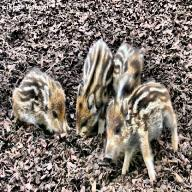boar: (102, 88, 192, 179), (7, 62, 74, 144), (68, 57, 104, 140)
